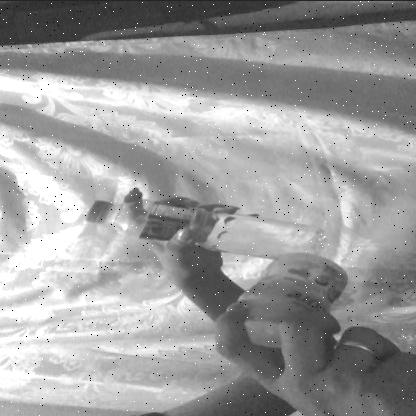Plastic Bottle: (48, 178, 357, 250)
